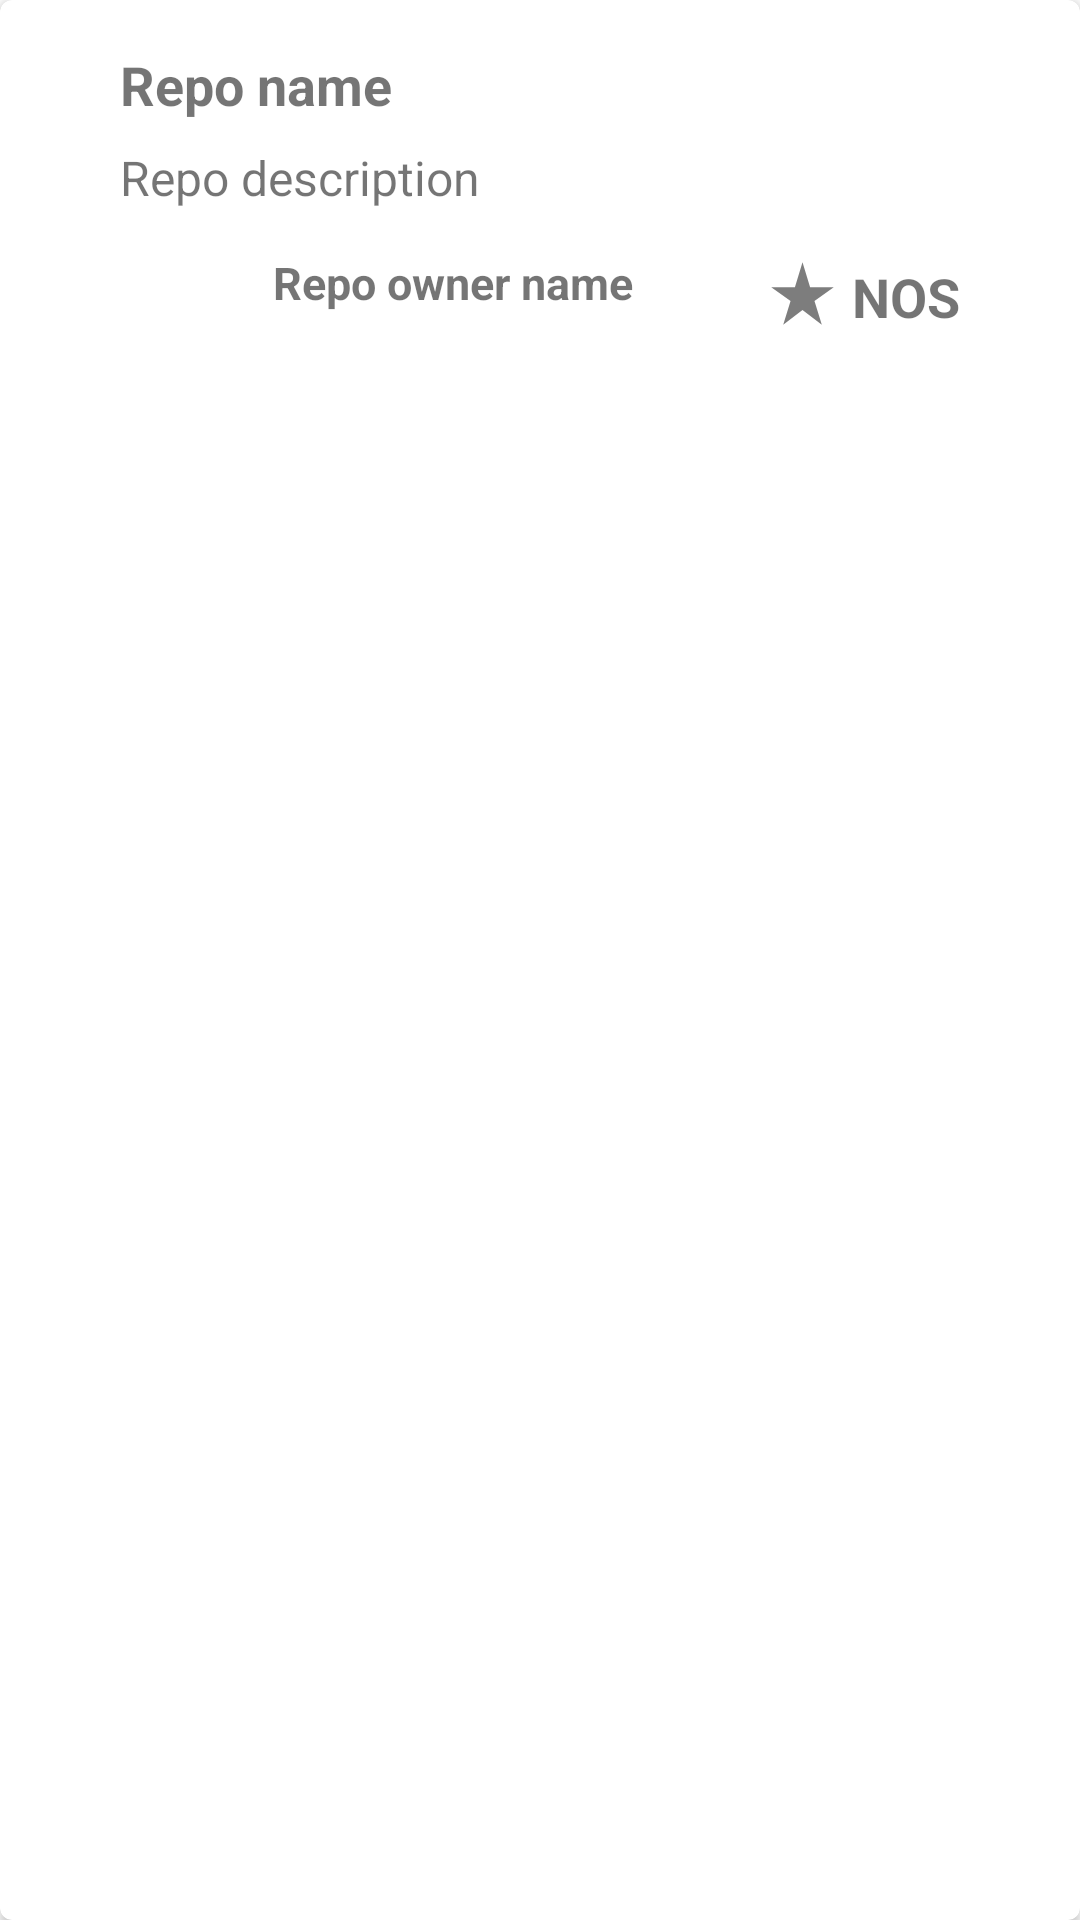

Screen size 1080px×1920px. Icon name, then its box in pixels as (x1, y1, x2, y2):
star rate: (771, 263, 834, 325)
